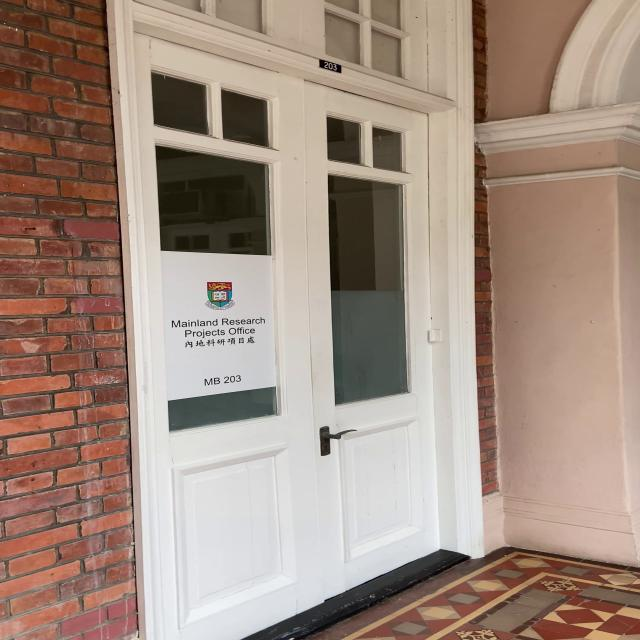room203: (312, 56, 348, 76)
room203Window: (195, 373, 249, 389)
